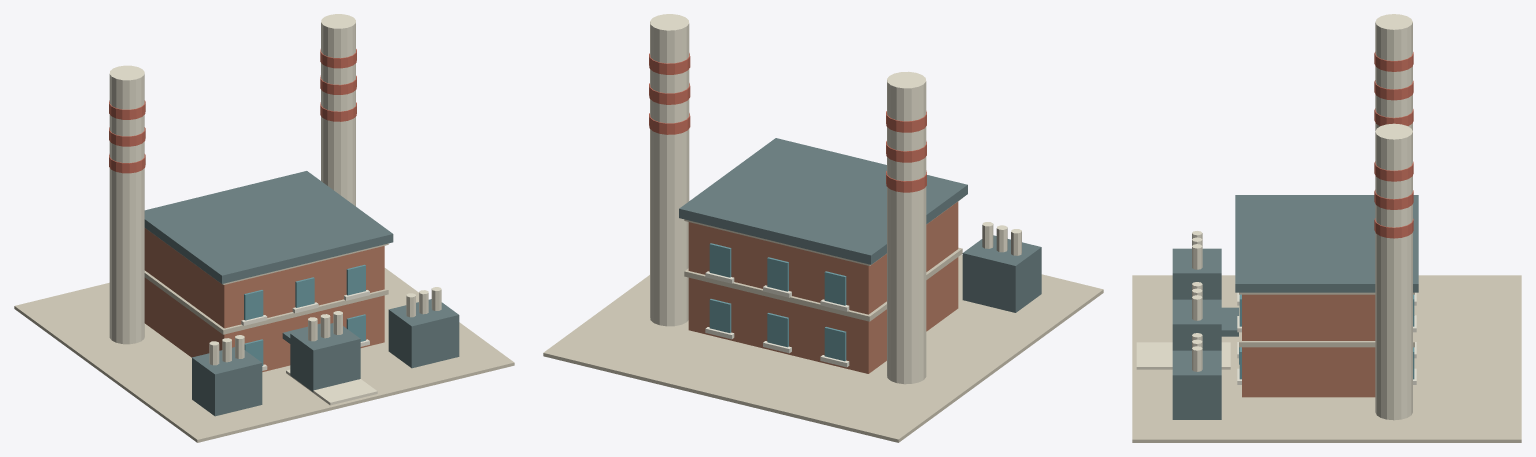
File: civic_power.glb
The picture shows the model from 3 angles, left to right: view 1: azimuth 30°, elevation 25°; view 2: azimuth 150°, elevation 25°; view 3: azimuth 270°, elevation 25°; orthographic projection. The views are drawn at different scales.
Parts seen in each view (by area): view 1: Paved civic lot, Copper roof, Masonry shell, Exhaust stack, Exhaust stack.001, Transformer.002, Transformer, Transformer.001, Limestone course, Front path, Recessed glazing.010, Recessed glazing.006 (+1 smaller); view 2: Paved civic lot, Masonry shell, Copper roof, Exhaust stack, Exhaust stack.001, Transformer, Limestone course, Recessed glazing.007, Recessed glazing.005, Recessed glazing.011, Recessed glazing.001, Recessed glazing.003 (+1 smaller); view 3: Paved civic lot, Copper roof, Masonry shell, Exhaust stack.001, Transformer.002, Exhaust stack, Transformer, Transformer.001, Front path, Limestone course, Entrance canopy, Safety bands.005 (+6 smaller).
Part boxes in pixels (x1,y1,x2,y2): Paved civic lot: [14, 268, 514, 442]; Copper roof: [144, 171, 393, 283]; Masonry shell: [144, 228, 384, 371]; Exhaust stack: [109, 65, 144, 344]; Exhaust stack.001: [321, 14, 355, 206]; Transformer.002: [388, 299, 459, 368]; Transformer: [192, 347, 262, 416]; Transformer.001: [290, 323, 360, 391]; Limestone course: [144, 270, 388, 334]; Front path: [286, 369, 377, 405]; Recessed glazing.010: [346, 264, 365, 295]; Recessed glazing.006: [244, 290, 263, 320]; Paved civic lot: [543, 254, 1103, 442]; Masonry shell: [688, 201, 958, 373]; Copper roof: [679, 138, 967, 264]; Exhaust stack: [887, 71, 926, 384]; Exhaust stack.001: [650, 14, 689, 326]; Transformer: [962, 235, 1041, 312]; Limestone course: [684, 247, 962, 321]; Recessed glazing.007: [824, 271, 846, 305]; Recessed glazing.005: [709, 299, 731, 332]; Recessed glazing.011: [709, 243, 731, 277]; Recessed glazing.001: [824, 327, 846, 361]; Recessed glazing.003: [767, 313, 788, 347]; Paved civic lot: [1132, 275, 1521, 442]; Copper roof: [1235, 195, 1418, 292]; Masonry shell: [1242, 294, 1375, 397]; Exhaust stack.001: [1375, 123, 1412, 420]; Transformer.002: [1172, 350, 1221, 419]; Exhaust stack: [1375, 14, 1412, 130]; Transformer: [1172, 248, 1221, 299]; Transformer.001: [1172, 299, 1221, 350]; Front path: [1136, 342, 1230, 369]; Limestone course: [1239, 305, 1414, 347]; Entrance canopy: [1221, 307, 1238, 336]; Safety bands.005: [1374, 161, 1413, 181].
Bounding box in the file's own units: 8.7 × 7 × 8.7.
